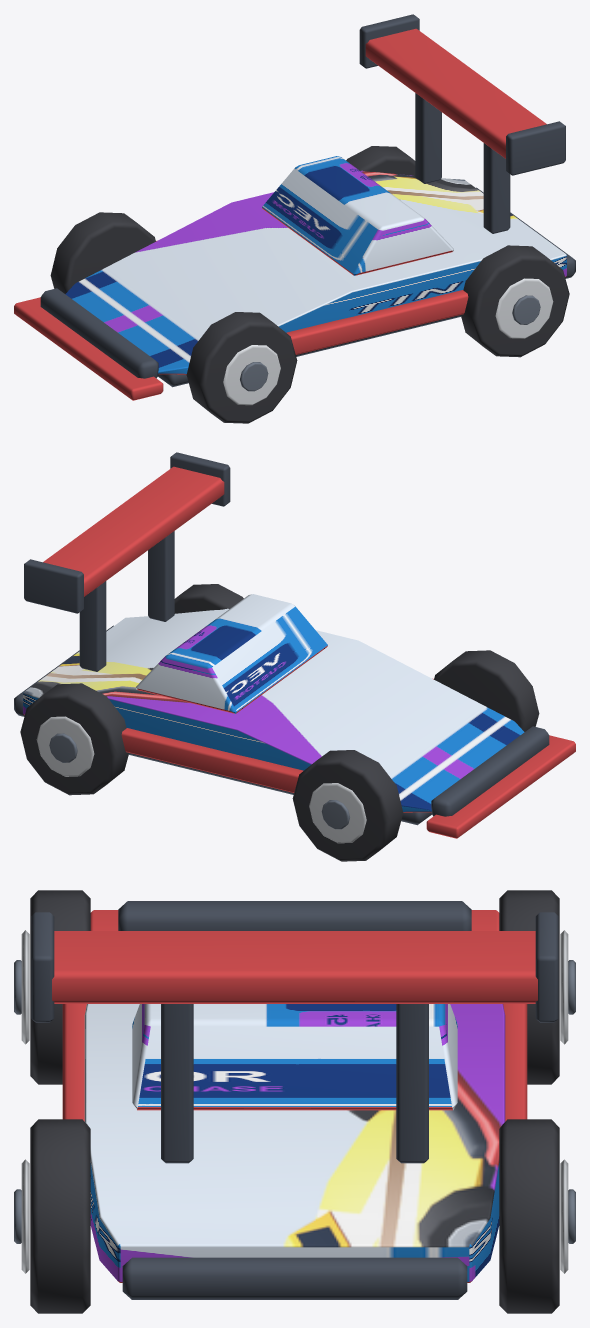
3 renders of one model, top to bottom at view 1: azimuth 30°, elevation 25°; view 2: azimuth 150°, elevation 25°; view 3: azimuth 270°, elevation 25°, orthographic. The views are drawn at different scales.
Visible parts, largest first — view 1: FF-05_connected_shell, FF-05_cabin, rear airfoil, Tire, Tire.002, Tire.001, custom side guard, custom chin, front bumper, wing endplate, wing support, wing support.001 (+7 smaller); view 2: FF-05_connected_shell, FF-05_cabin, rear airfoil, Tire.001, Tire.003, Tire, custom side guard.001, custom chin, front bumper, wing endplate.001, wing support.001, wing support (+7 smaller); view 3: FF-05_connected_shell, rear airfoil, FF-05_cabin, rear bumper, Tire.002, Tire.003, front bumper, wing support, wing support.001, Tire, Tire.001, custom side guard (+8 smaller).
Boxes of the visible parts, <box> form: FF-05_connected_shell: <box>65,170,566,374</box>; FF-05_cabin: <box>262,156,453,275</box>; rear airfoil: <box>365,28,546,158</box>; Tire: <box>186,312,297,423</box>; Tire.002: <box>461,245,569,357</box>; Tire.001: <box>50,212,155,293</box>; custom side guard: <box>286,290,468,354</box>; custom chin: <box>14,297,163,400</box>; front bumper: <box>40,288,158,378</box>; wing endplate: <box>506,121,565,175</box>; wing support: <box>483,143,510,233</box>; wing support.001: <box>415,93,441,183</box>; FF-05_connected_shell: <box>23,608,524,812</box>; FF-05_cabin: <box>136,594,327,713</box>; rear airfoil: <box>43,466,224,596</box>; Tire.001: <box>292,750,403,861</box>; Tire.003: <box>20,683,128,795</box>; Tire: <box>434,650,539,731</box>; custom side guard.001: <box>121,728,303,792</box>; custom chin: <box>426,735,575,838</box>; front bumper: <box>431,726,549,816</box>; wing endplate.001: <box>24,559,83,613</box>; wing support.001: <box>79,581,106,671</box>; wing support: <box>148,531,174,621</box>; FF-05_connected_shell: <box>84,1004,505,1282</box>; rear airfoil: <box>52,931,537,1003</box>; FF-05_cabin: <box>132,1004,457,1110</box>; rear bumper: <box>122,1257,467,1299</box>; Tire.002: <box>30,1119,90,1313</box>; Tire.003: <box>499,1119,559,1313</box>; front bumper: <box>118,901,471,930</box>; wing support: <box>161,1004,193,1163</box>; wing support.001: <box>396,1004,428,1163</box>; Tire: <box>30,890,90,1084</box>; Tire.001: <box>499,890,559,1084</box>; custom side guard: <box>62,1004,86,1121</box>.
Size of the model in its own units: 391 by 183 by 242.
